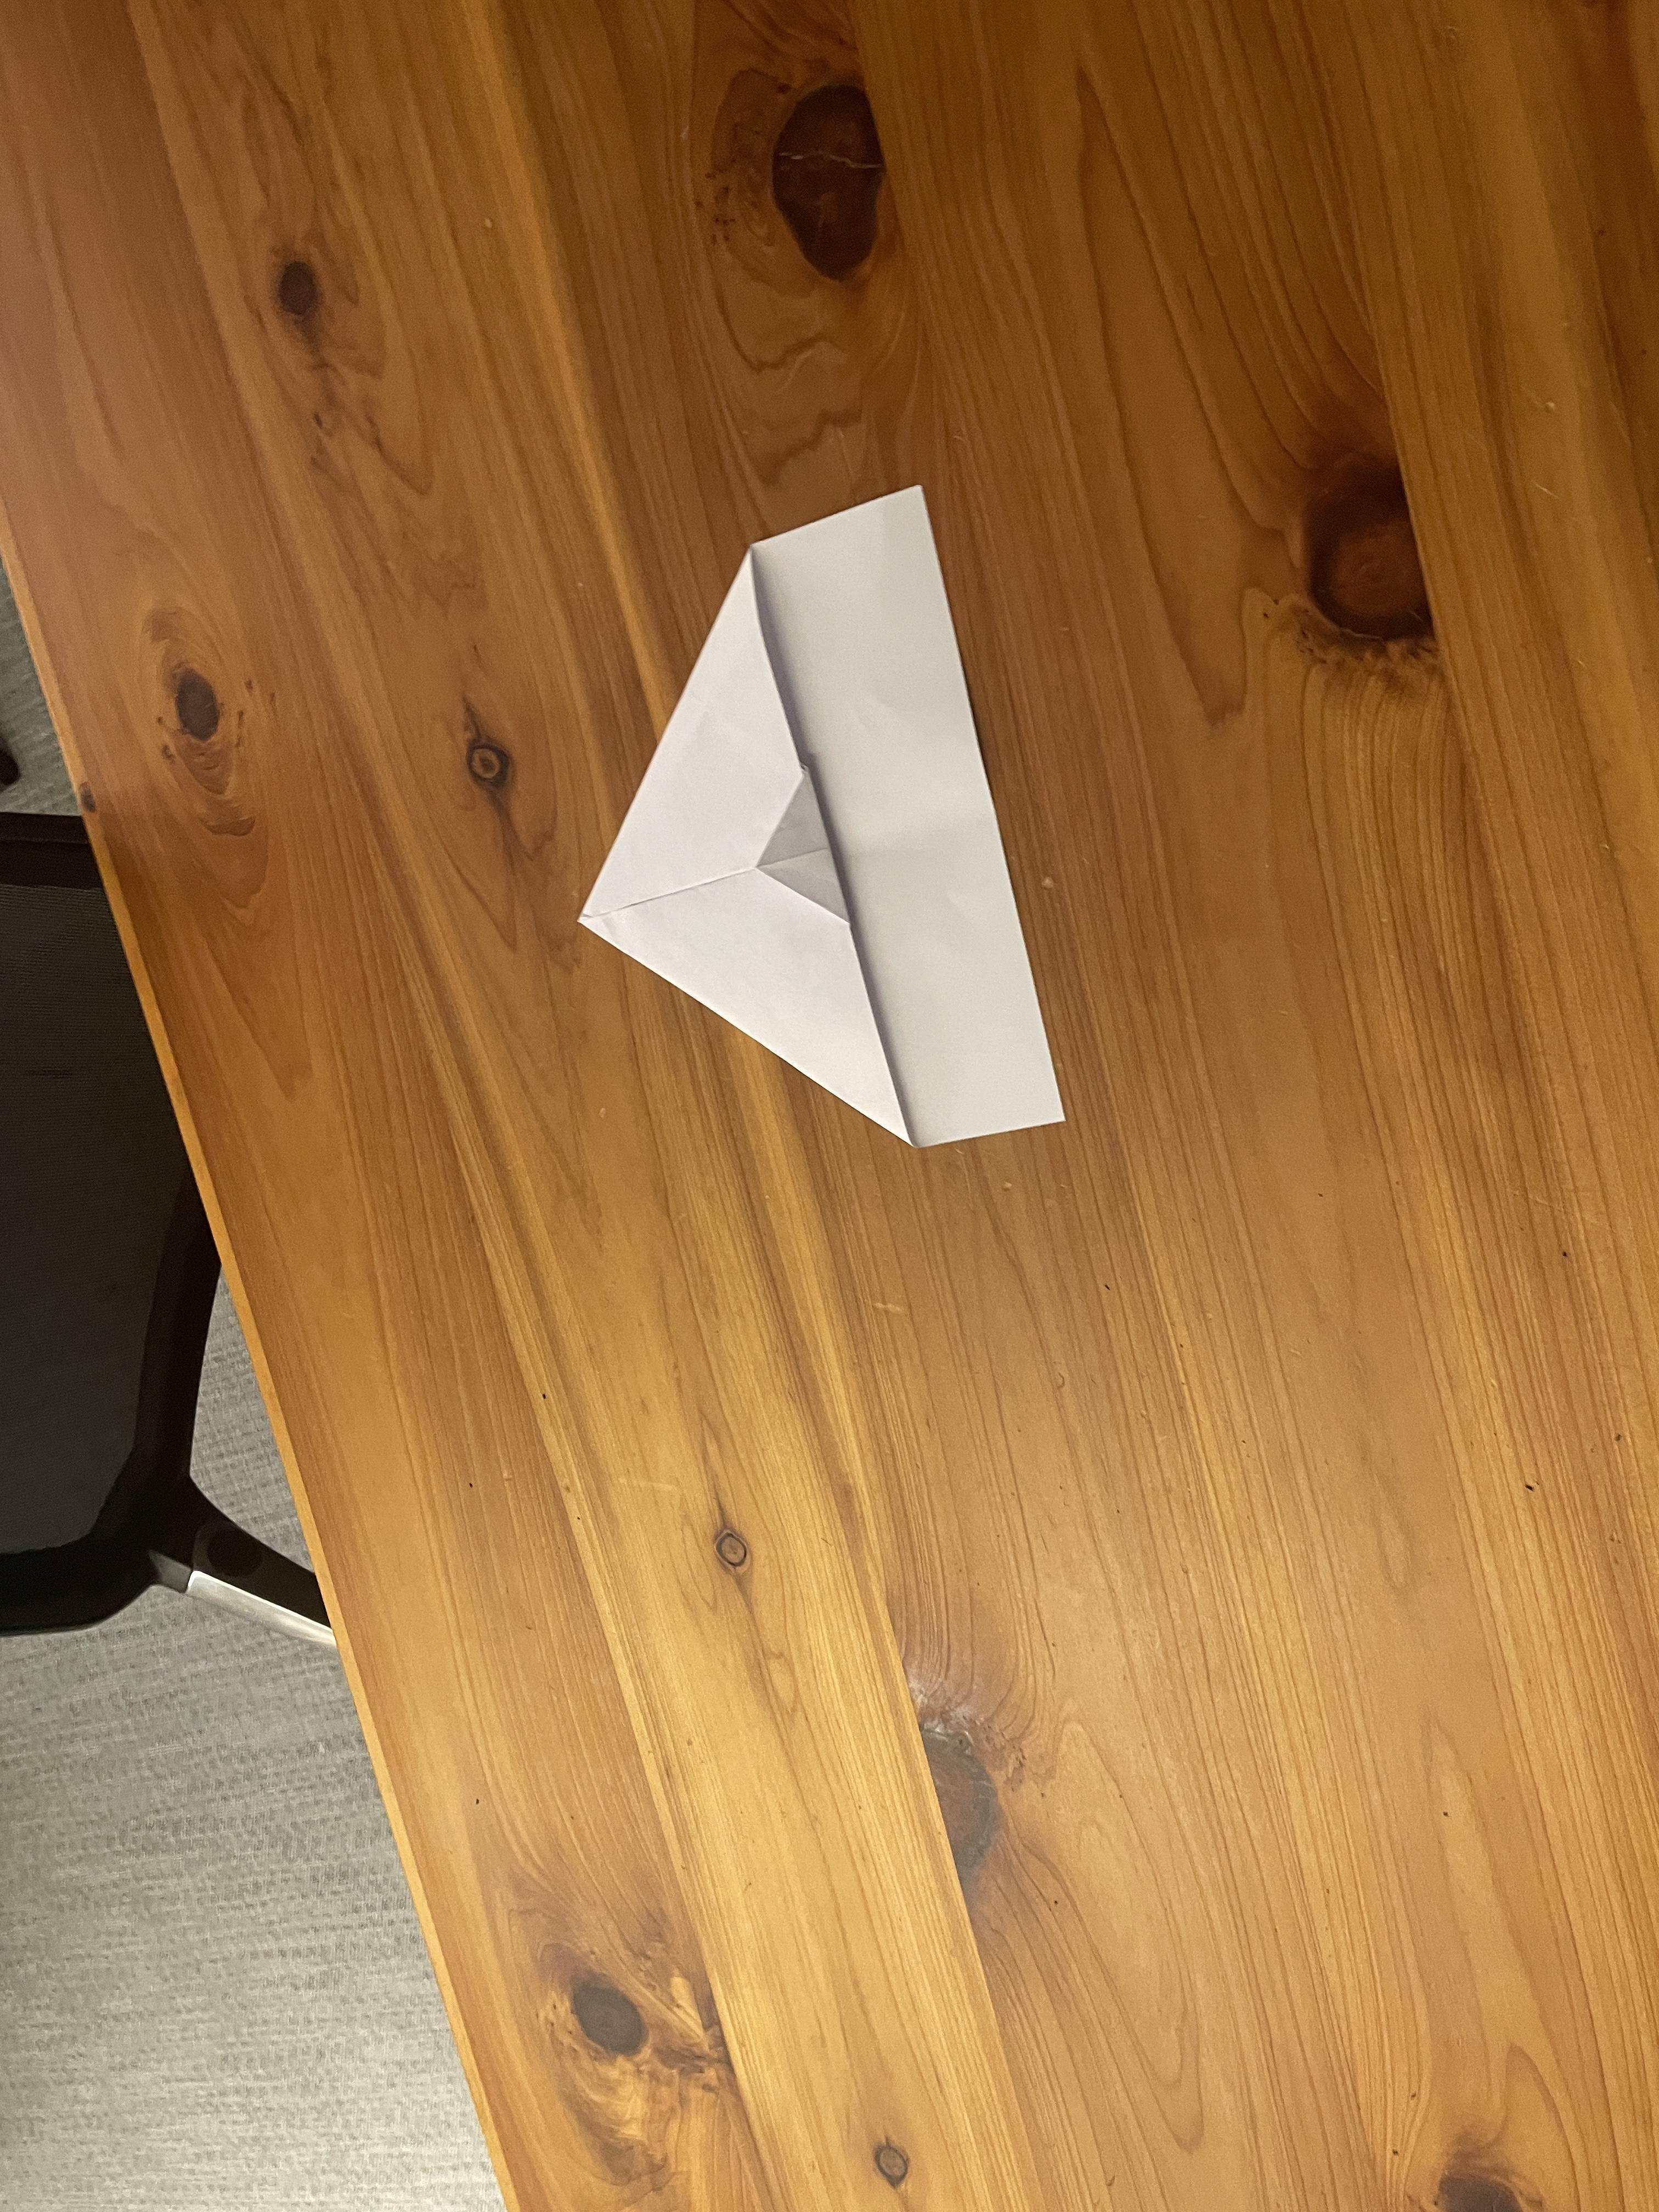shape_2: (526, 374, 1180, 1287)
